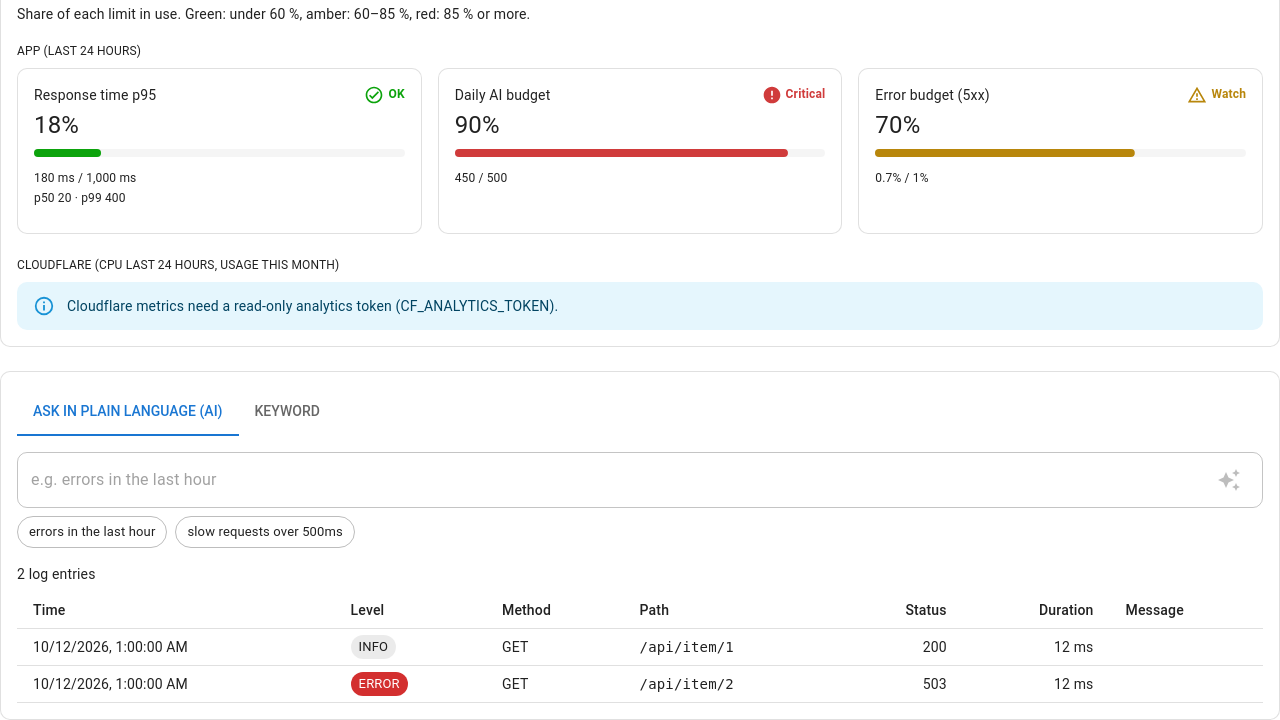
Test case: LogsPage › translates a question, shows Interpreted as and filters the list
(page scrolled)
Type "server errors" into the field named "Search logs in plain language".
click(609, 480); type("server errors")  # box [17, 452, 1201, 508]
Then press Enter
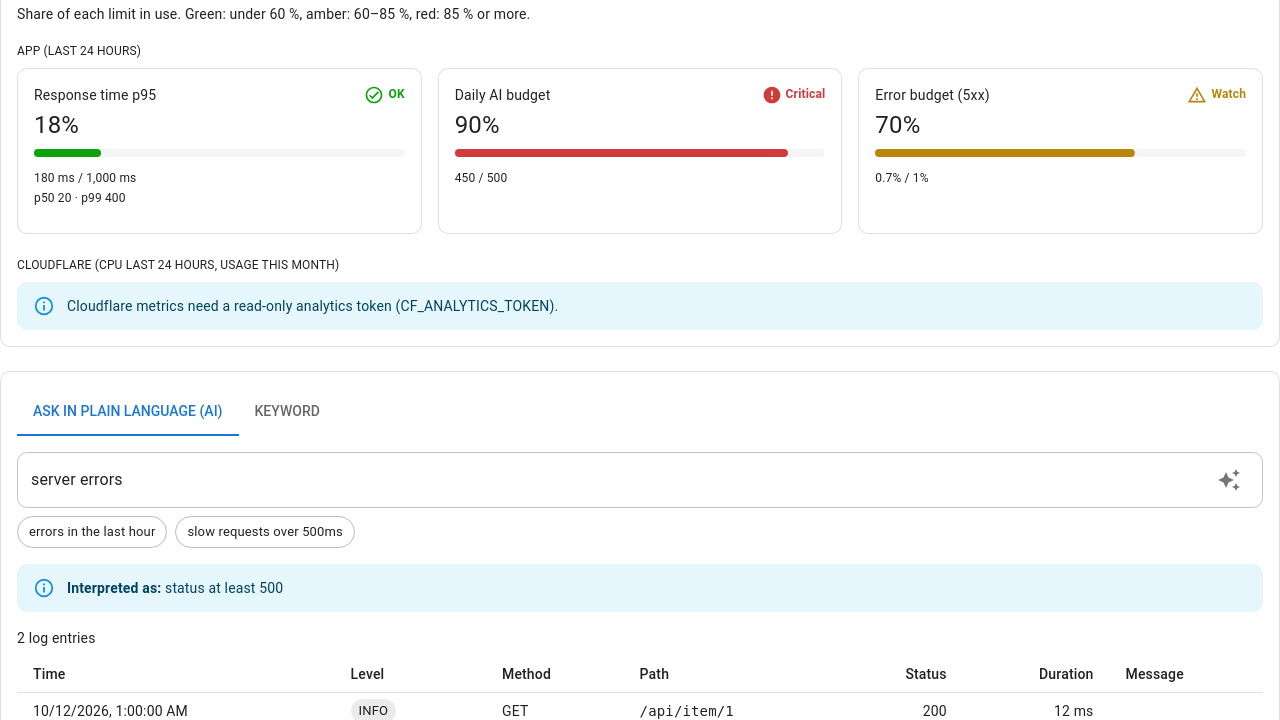
Expected: the message "Interpreted as: status at least 500" is shown, [17, 564, 1263, 612]
